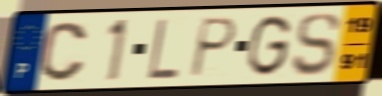1: (105, 17, 129, 83)
C: (37, 20, 90, 83)
G: (245, 13, 294, 79)
L: (146, 17, 181, 81)
P: (187, 16, 240, 80)
S: (290, 11, 342, 78)
